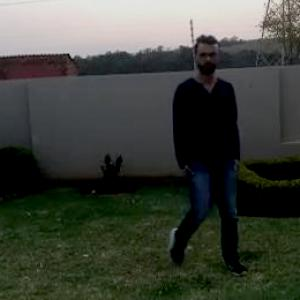follow: (155, 33, 234, 277)
